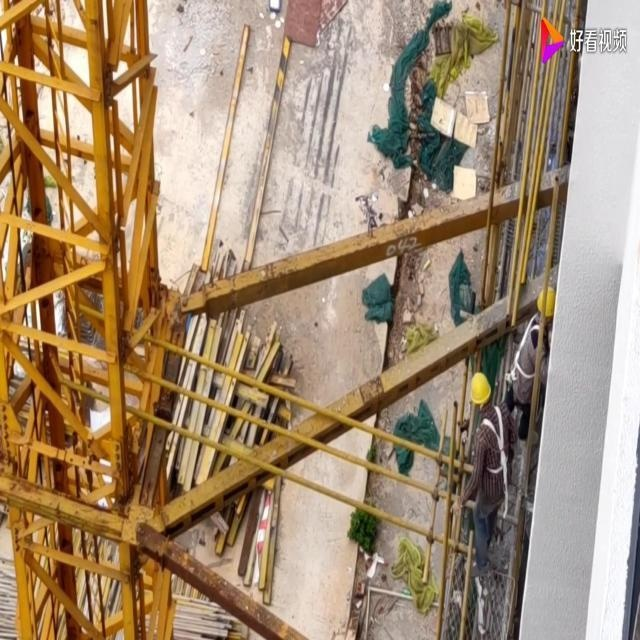Arnes_seguridad: (512, 307, 547, 380), (480, 401, 510, 478)
